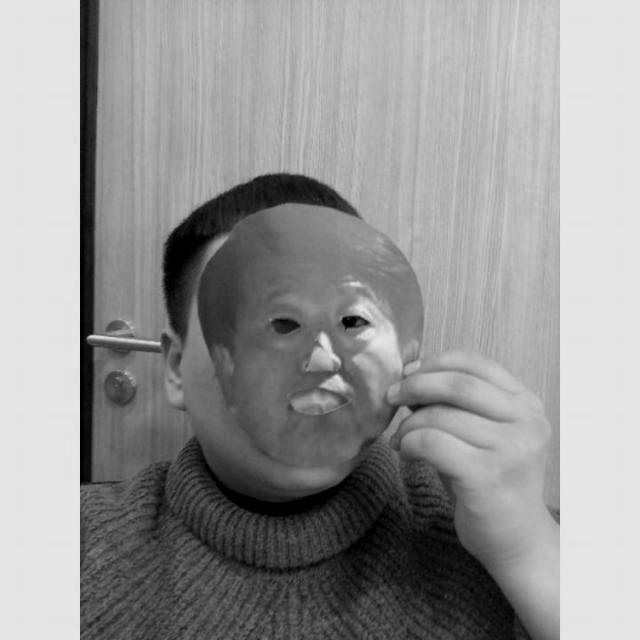fake: (200, 200, 430, 476)
